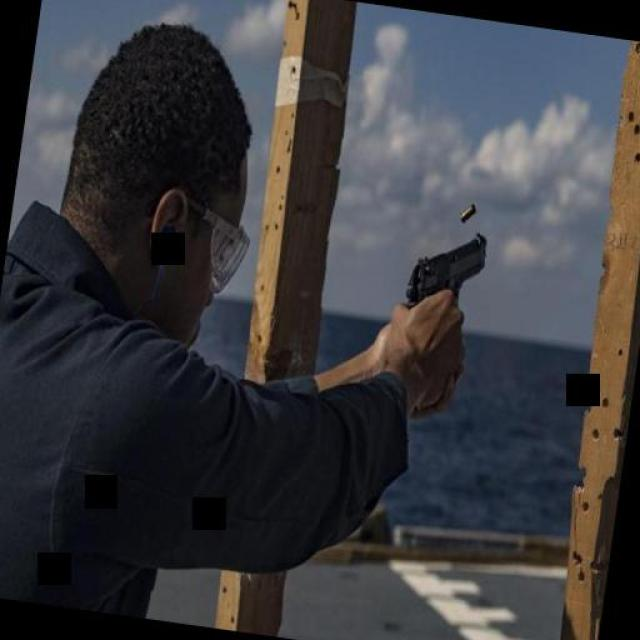gun: (396, 218, 492, 348)
